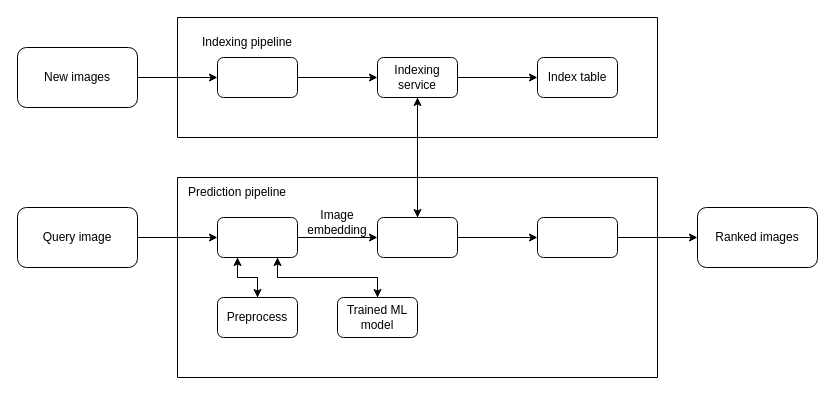
Image size: 835x395. Some labels were removed from this diagram. The centre of each missing label's shape, as x and y in pixels:
Embedding generation service: point 257,237
Nearest neighbor service: point 417,237
Object storage: point 257,77
Re-ranking service: point 577,237
